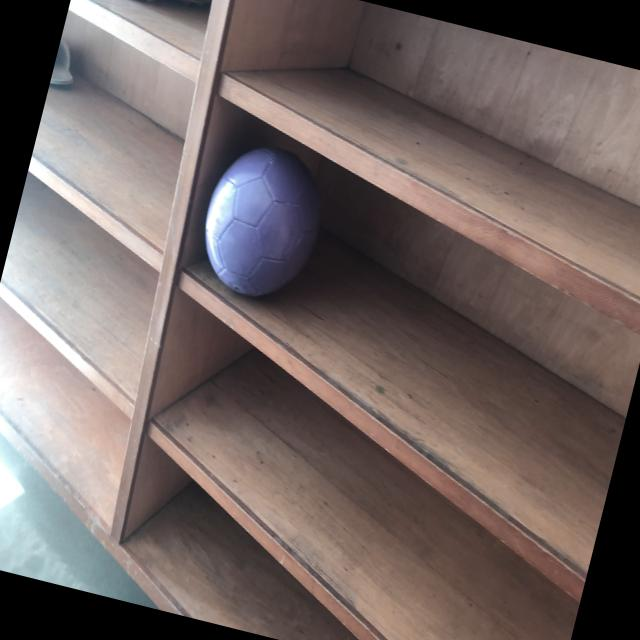purple_ball: (188, 137, 334, 310)
